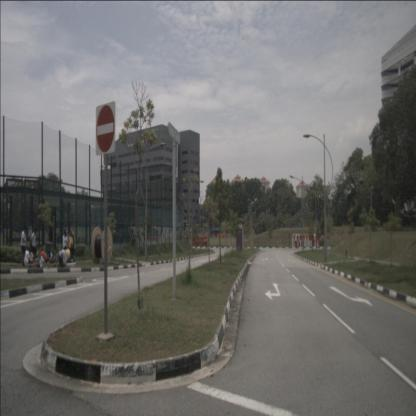human-pedestrian-adult: (28, 252, 49, 269), (20, 226, 28, 266), (66, 227, 75, 261), (54, 244, 66, 267), (30, 226, 38, 260), (23, 246, 33, 268), (36, 248, 48, 265), (46, 248, 56, 265), (63, 229, 68, 261)
